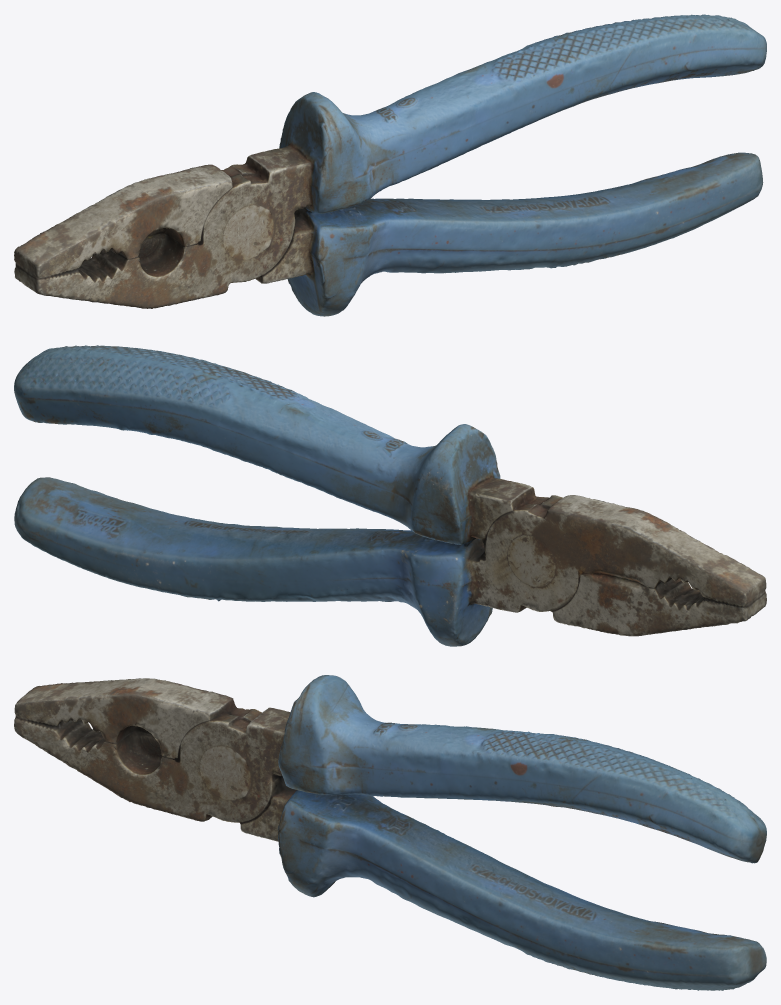
The model's file is kleste.FBX.
3 renders of one model, top to bottom at view 1: azimuth 30°, elevation 25°; view 2: azimuth 150°, elevation 25°; view 3: azimuth 330°, elevation 25°, orthographic.
Visible parts, largest first — view 1: kleste_100k; view 2: kleste_100k; view 3: kleste_100k.
Part boxes in pixels (left/top/right/bottom): kleste_100k: left=14, top=14, right=766, bottom=316; kleste_100k: left=14, top=345, right=766, bottom=646; kleste_100k: left=14, top=675, right=766, bottom=990.
Bounding box in the file's own units: 0.4071 × 0.1204 × 0.0436.
1 material, 1 textured.
